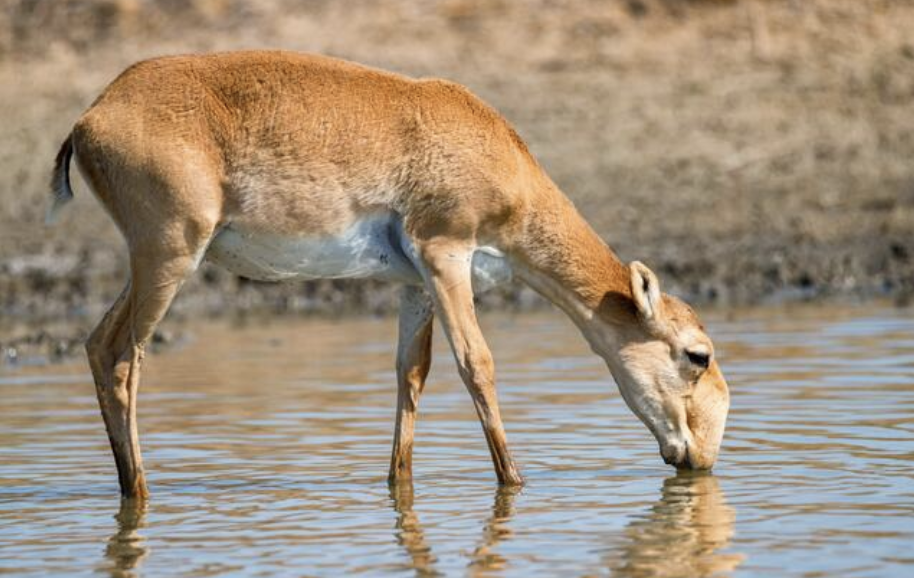saiga: (42, 36, 733, 537)
